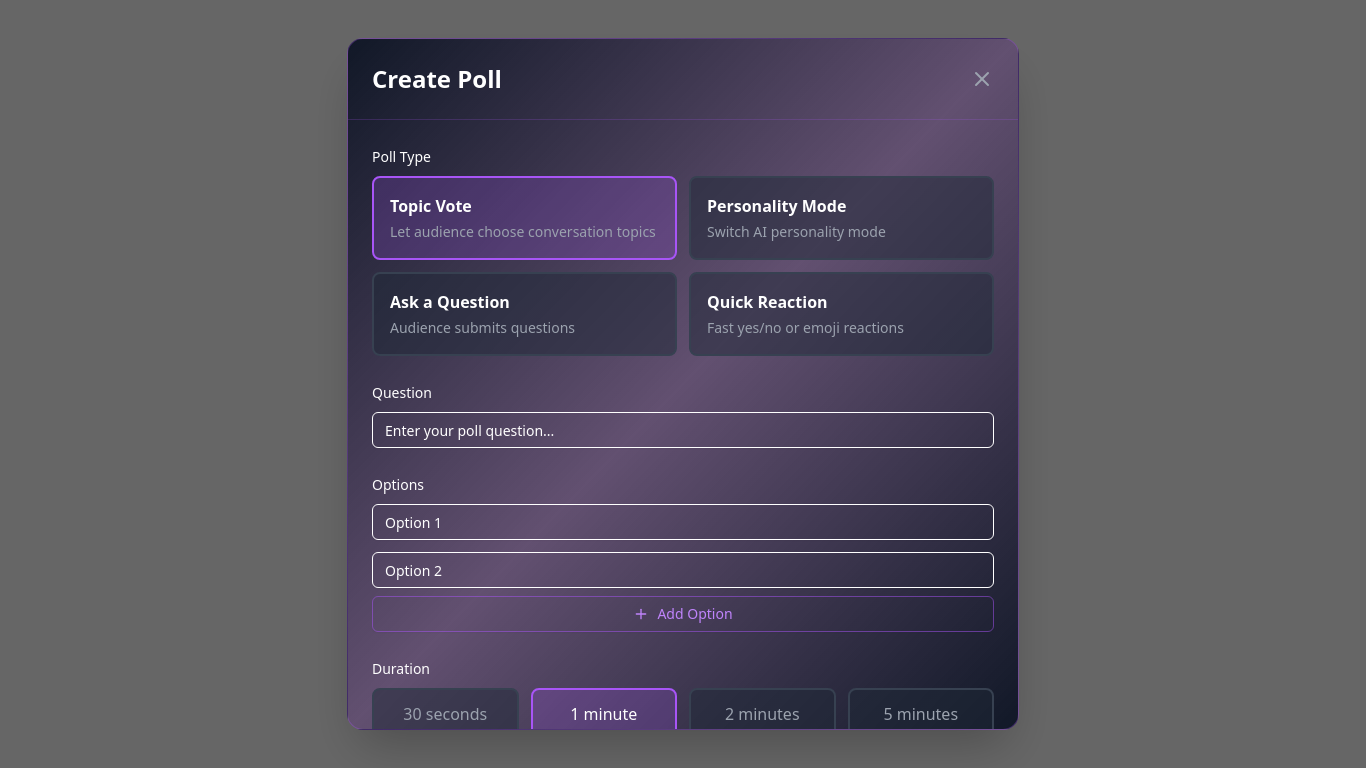
it: PollCreationModal › should allow removing options (keeping minimum 2)
Note: Add an option first
Click the button "Add Option".
click(683, 614)  # box [372,596,994,632]
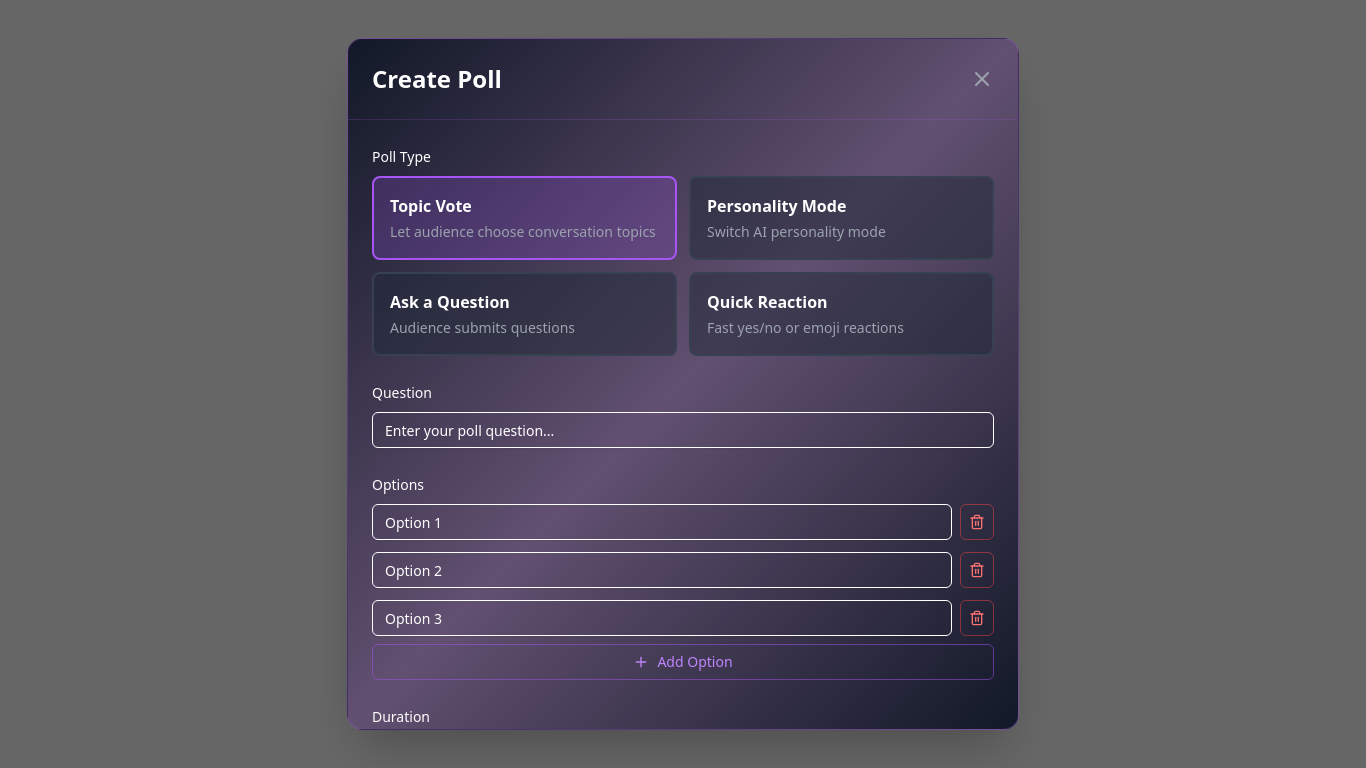
Result: the number of fields with placeholder "Option 1" is 3 at [372,504,952,540]; [372,552,952,588]; [372,600,952,636]
Click the 6th button.
click(977, 522)  # box [960,504,994,540]
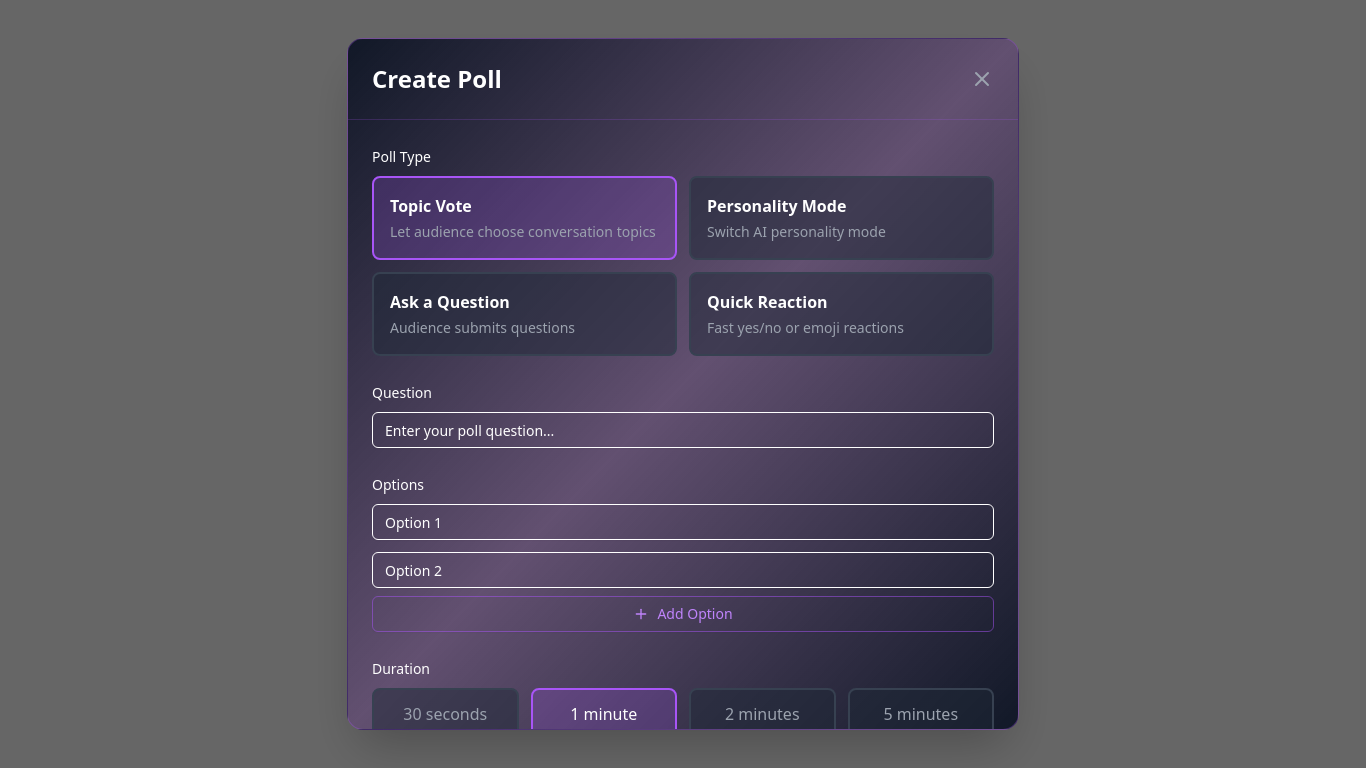
Result: the number of fields with placeholder "Option 1" is 2 at [372,504,994,540]; [372,552,994,588]
